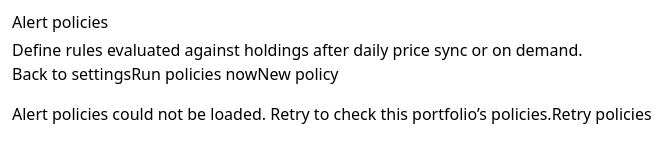
Scenario: alert policy list read recovery › distinguishes an initial list failure from confirmed empty and retries the existing GET pair
Expected: the message shows "Alert policies could not be loaded.", [12, 103, 552, 125]
Expected: the message does not show "Synthetic private server detail", [12, 102, 652, 126]
What coordinates should you click on to do the following:
click the button "Retry policies"
I would click on:
 (602, 114)
Its box is [552, 102, 652, 126].
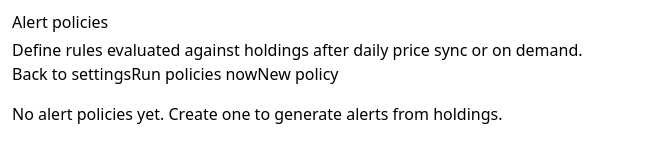
Now the list item "No alert policies yet. Create one to generate alerts from holdings." is shown, box [12, 103, 502, 125]
